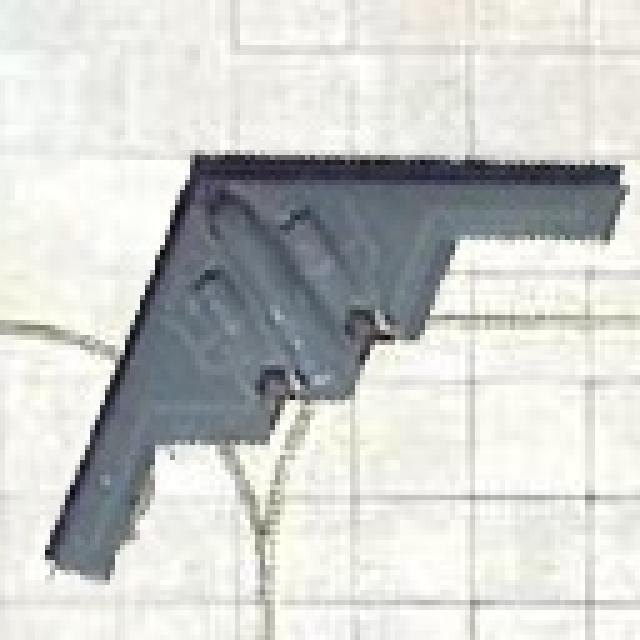B-2_TopDown: (35, 145, 630, 585)
